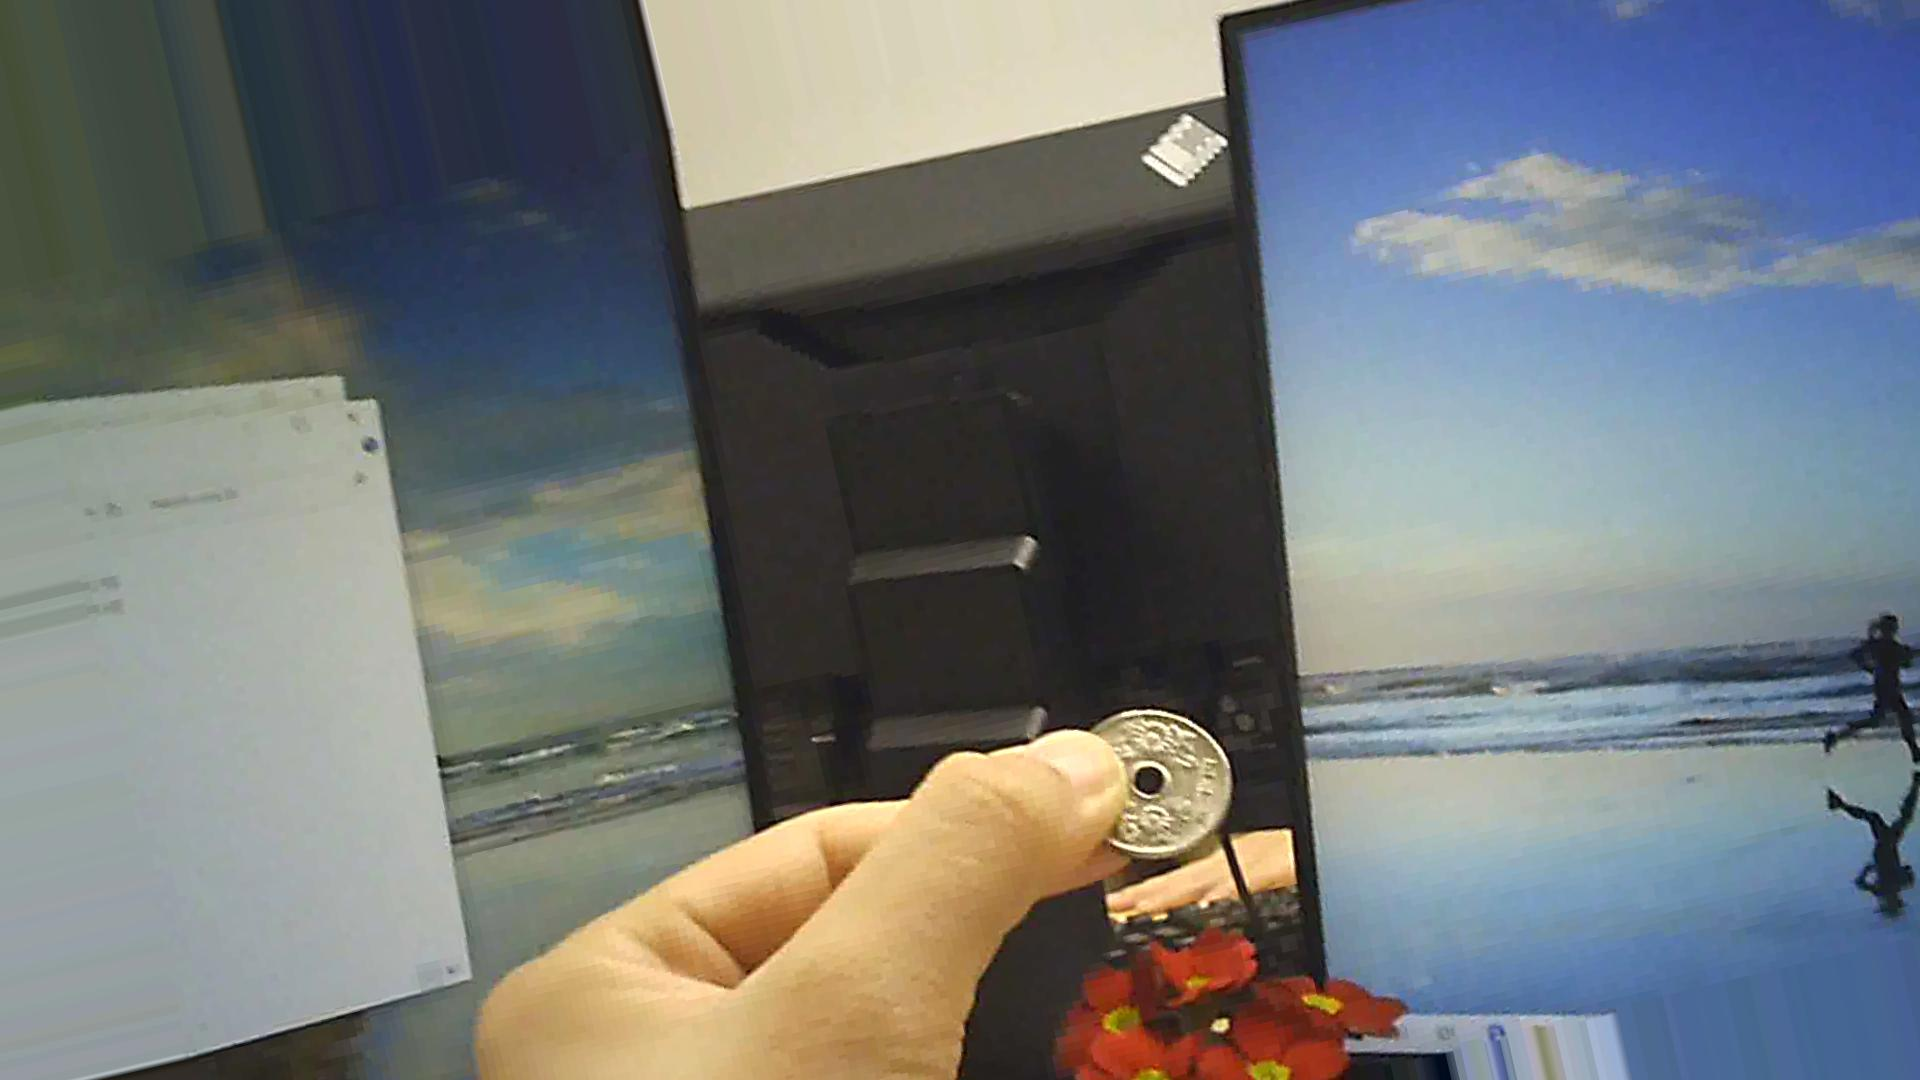50 Yen: (1065, 694, 1225, 880)
